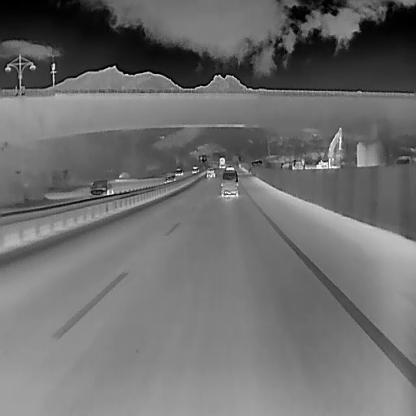car: (220, 169, 239, 198), (88, 178, 114, 197), (206, 166, 215, 178), (164, 175, 176, 183), (218, 156, 226, 168), (174, 168, 184, 176), (191, 165, 199, 174)
